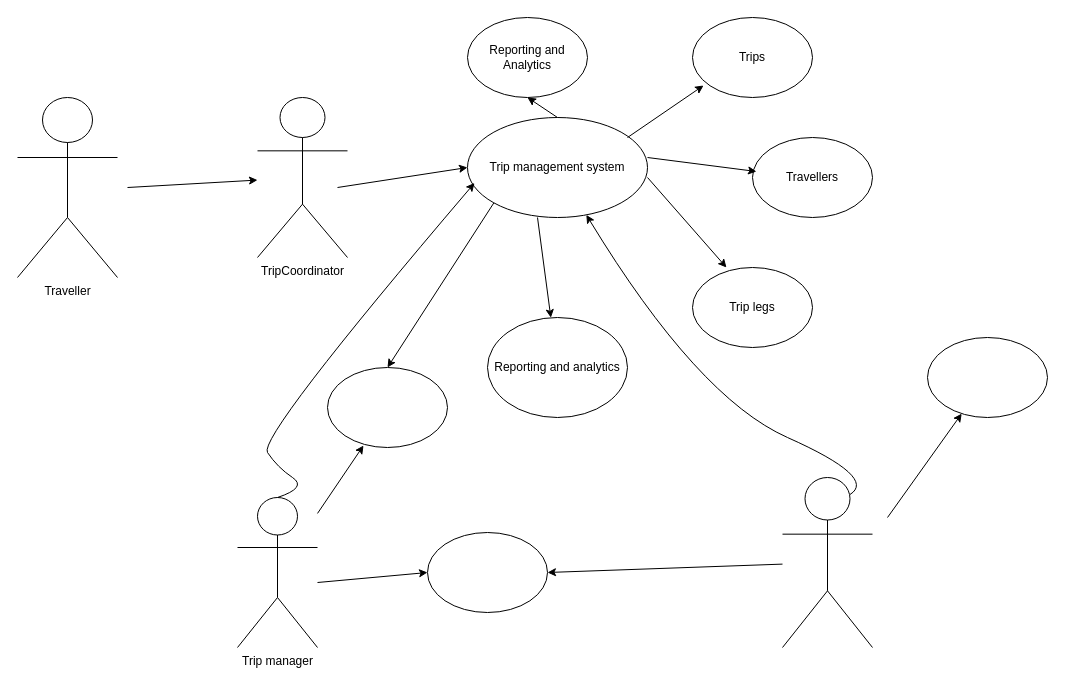
Some shapes in this 1065 by 686 pixel diagram are drawn without their labels. The box of each missing label's shape, as (x1, y1, x2, y2) in pixels:
Administrator: (782, 476, 872, 648)
Administrator Functions: (926, 336, 1048, 418)
Trip coordinator functions: (326, 366, 448, 448)
Trip Manager functions: (426, 532, 548, 612)
